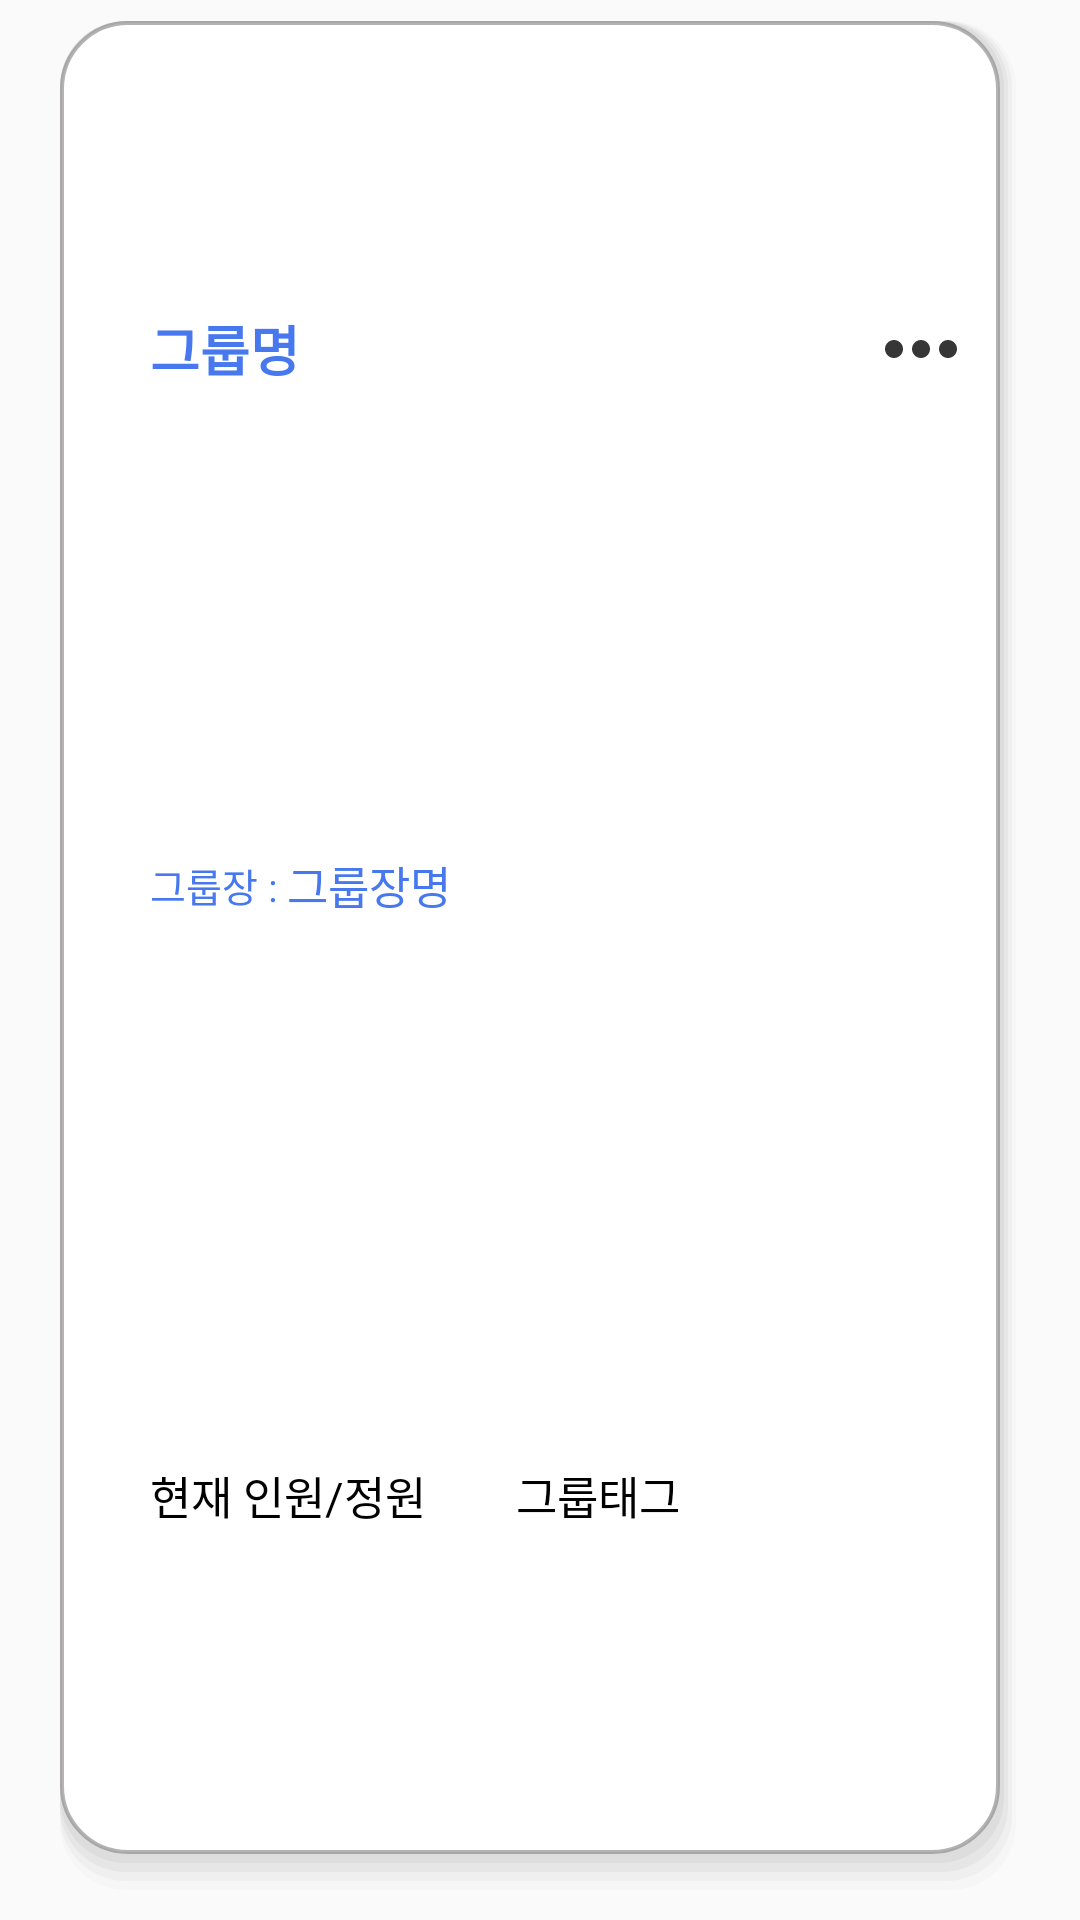

Where to tap for icons on this 1080x1920 app screen, as (x=x, y=y):
more horiz: (x=921, y=349)
